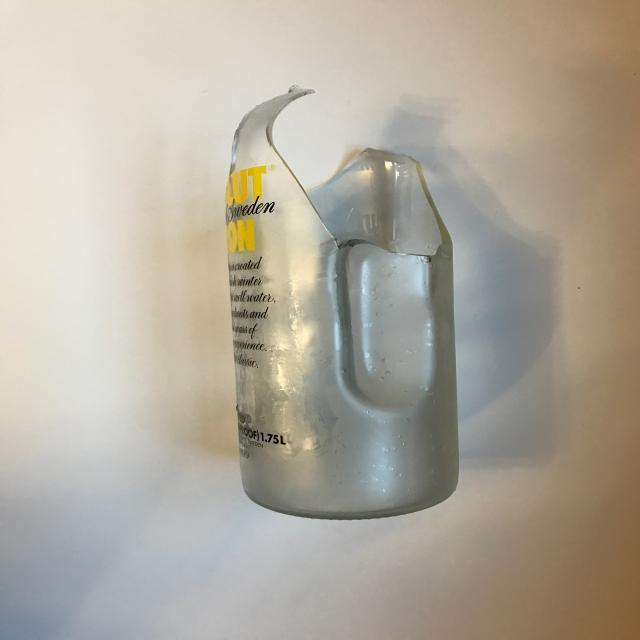glass: (224, 82, 463, 518)
